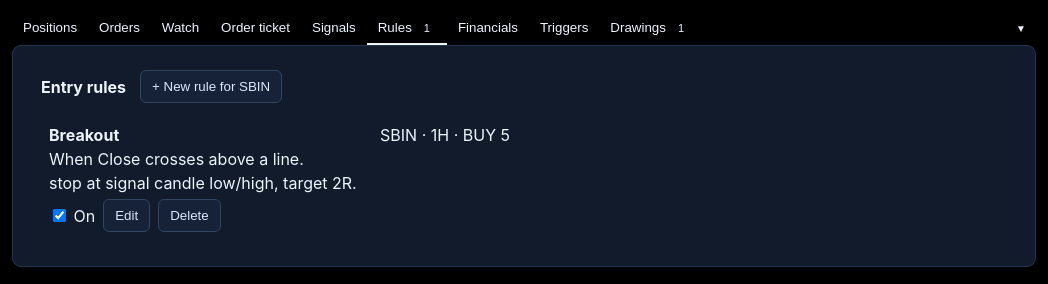
Scenario: Rules panel › deletes a rule only after confirmation
The image size is (1048, 284).
Click the button "Delete": (189, 216) x1=158 y1=199 x2=221 y2=232
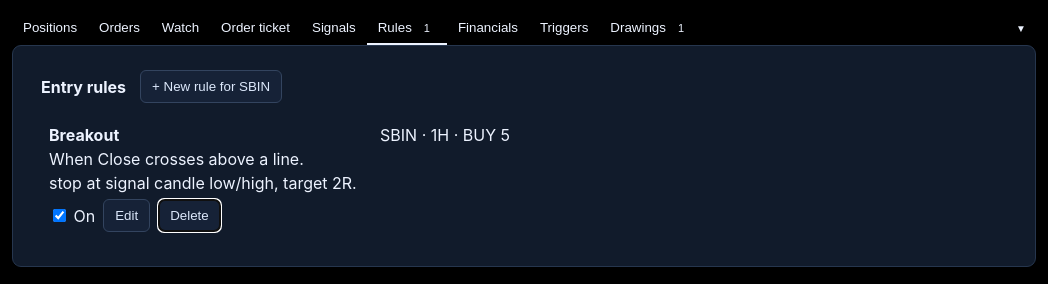
Click the button "Delete": (189, 216) x1=158 y1=199 x2=221 y2=232
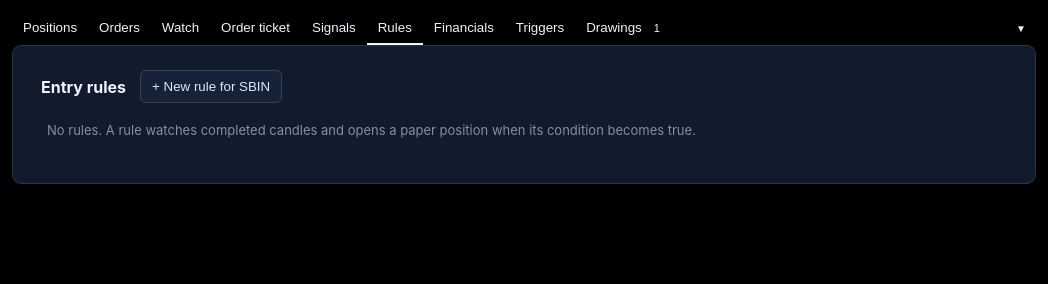
Check: the text "Breakout" is gone
